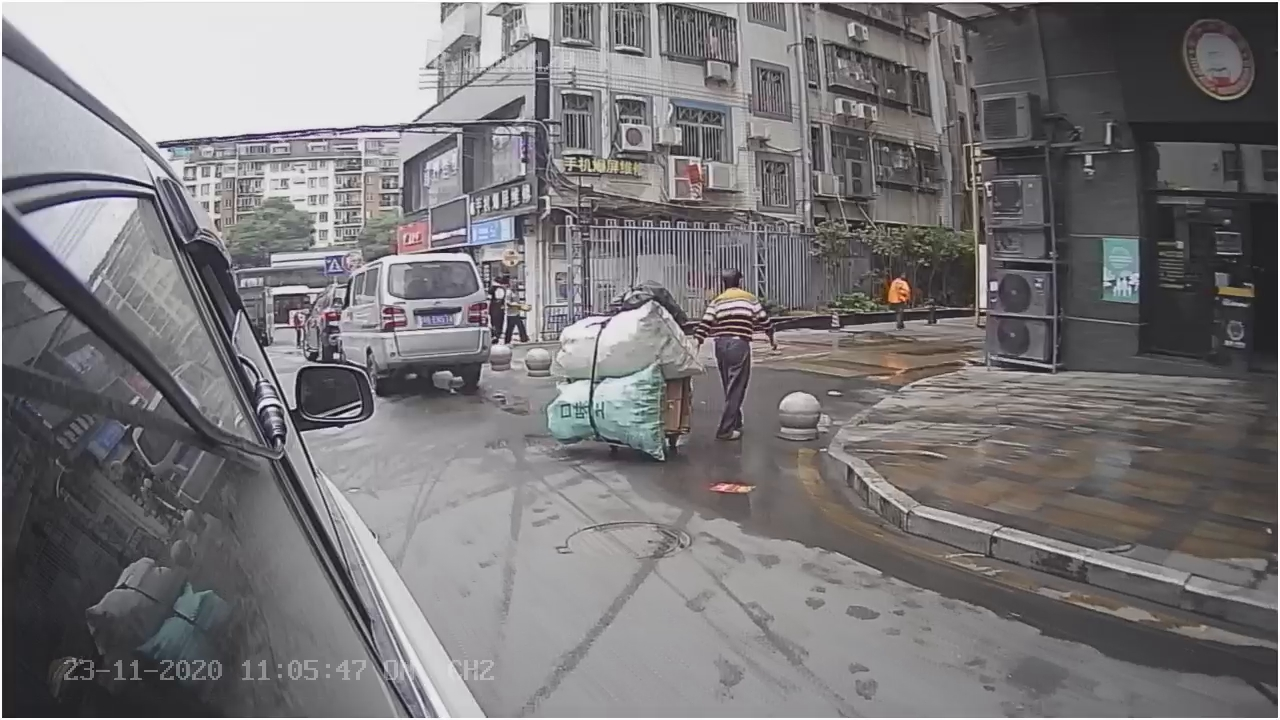person: (705, 267, 776, 446)
